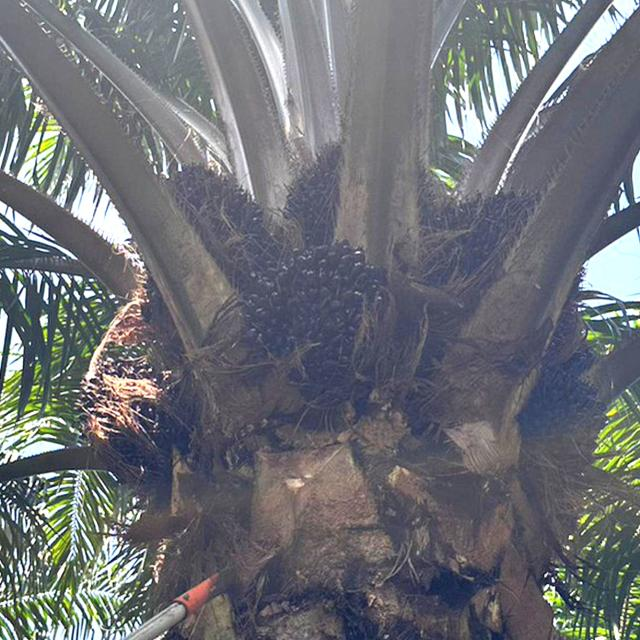unripe: (236, 235, 393, 400)
